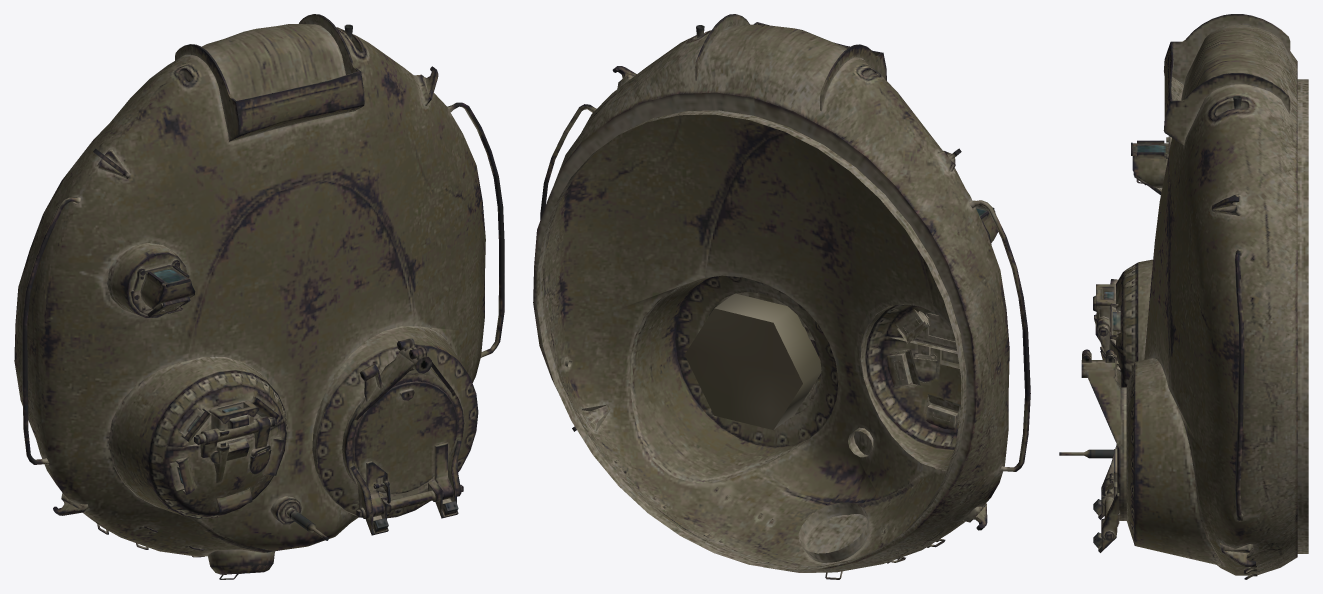
Rendered from Turret_01.glb.
3 views of the same model, side by side, from view 1: azimuth 30°, elevation 25°; view 2: azimuth 150°, elevation 25°; view 3: azimuth 270°, elevation 25° (orthographic). The views are drawn at different scales.
Visible parts, largest first — view 1: set_0_group_0; view 2: set_0_group_0; view 3: set_0_group_0.
Part boxes in pixels (box(x1,y1,x2,y2)): set_0_group_0: box(14, 14, 504, 579); set_0_group_0: box(533, 14, 1030, 579); set_0_group_0: box(1059, 14, 1308, 579).
Bounding box in the file's own units: 2.58 × 2.73 × 1.18.
Materials: 1 (1 with a texture image).
